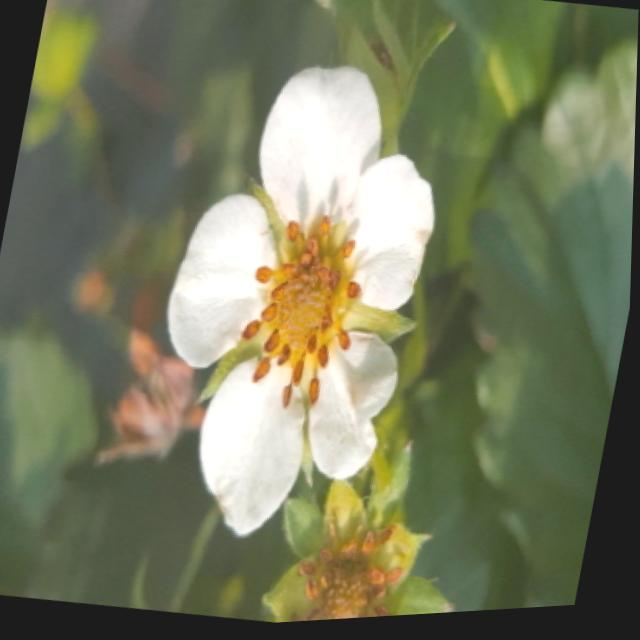Blossom Blight: (233, 212, 371, 416), (287, 518, 413, 626)
